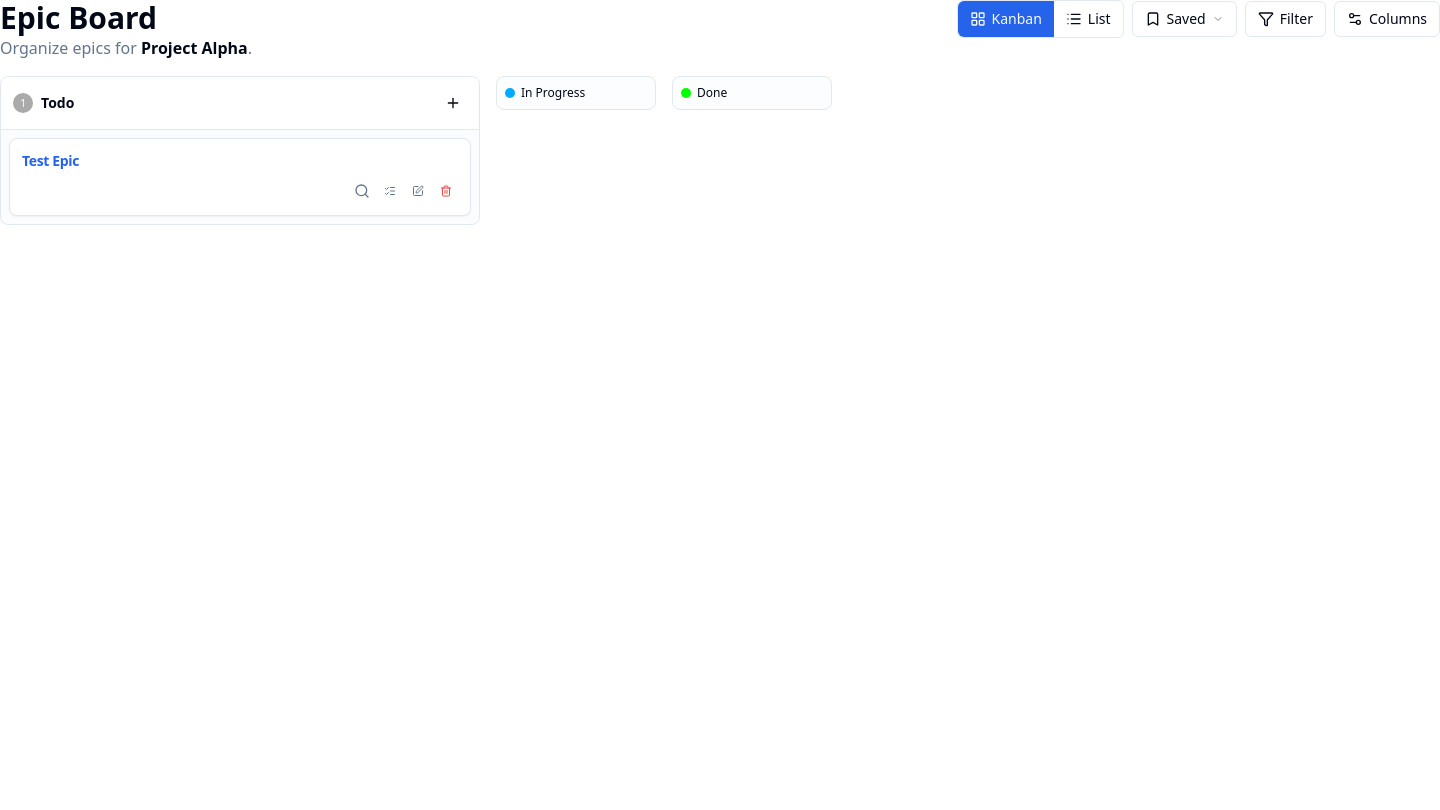
Test: BoardPage — Saved filters integration › applies saved filter and updates URL
This screenshot has width=1440, height=810.
Expected: the button "Test Epic" is shown, [22,151,79,171]
# Open saved filters dropdown
Click the button with aria-label "saved filters": [1184, 19] box [1132,1,1237,37]
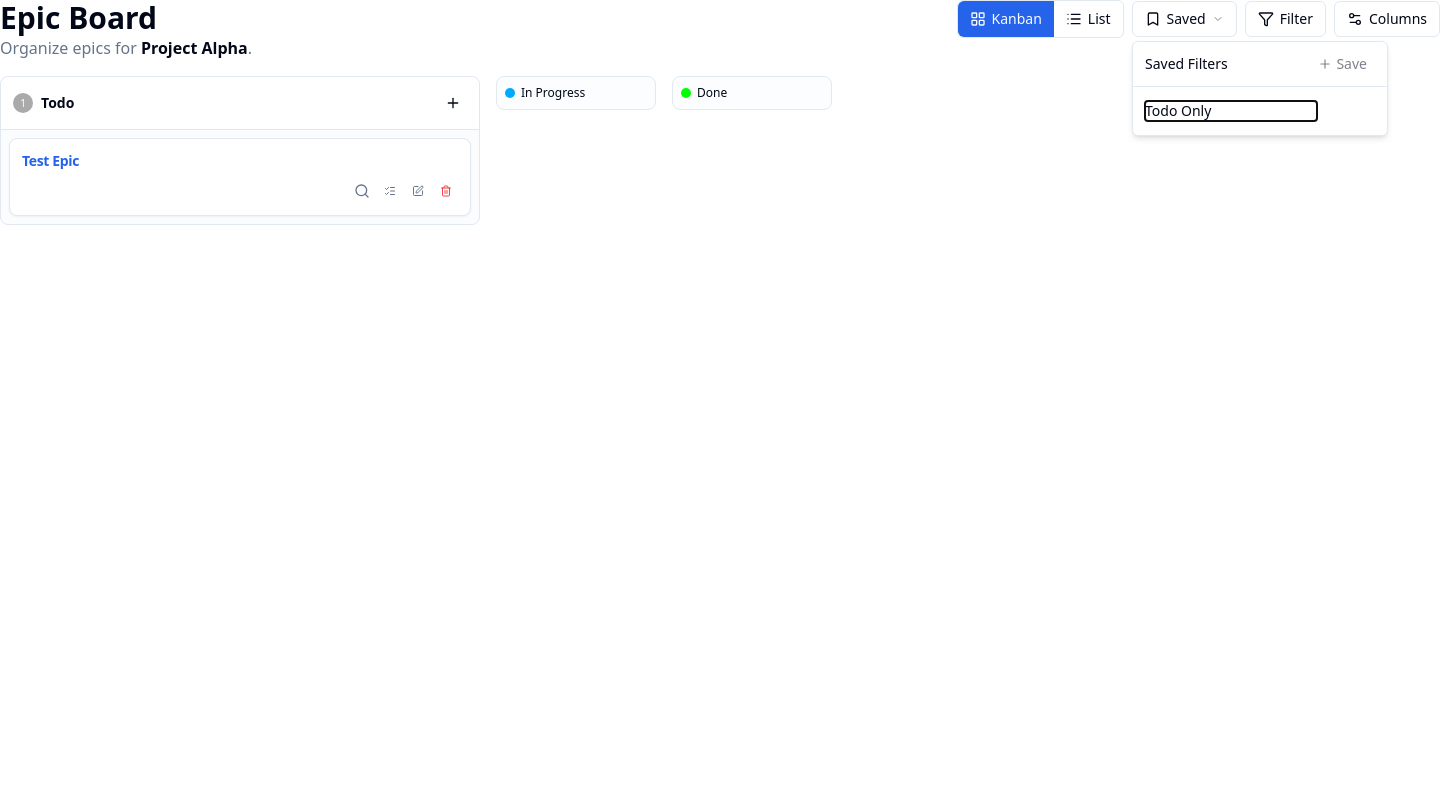
Result: the button "Todo Only" is shown
# Click to apply filter
Click the button "Todo Only": [1231, 111] box [1145,101,1317,121]
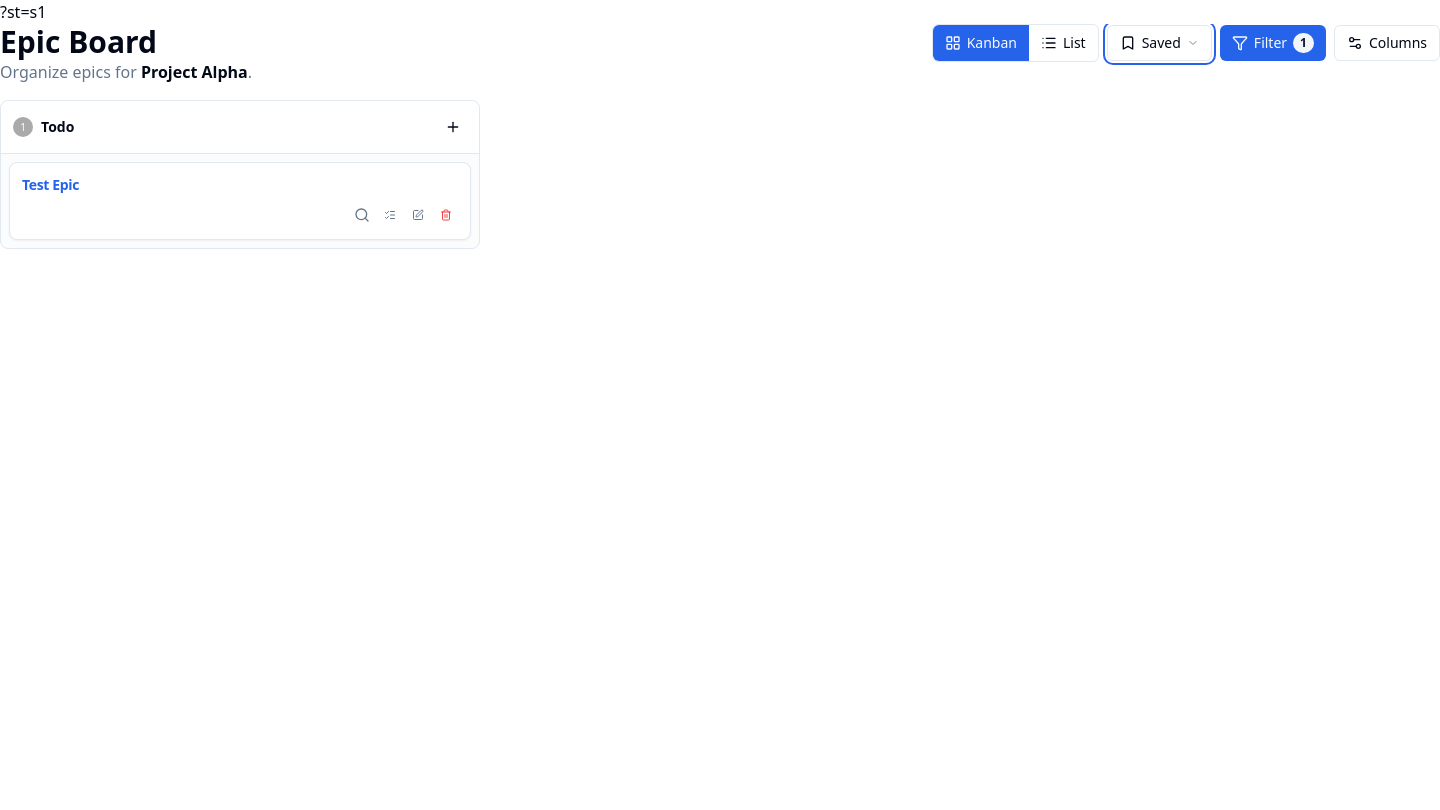
Result: the text with test id "loc-search" reads "?st=s1" at [0,1,46,23]
